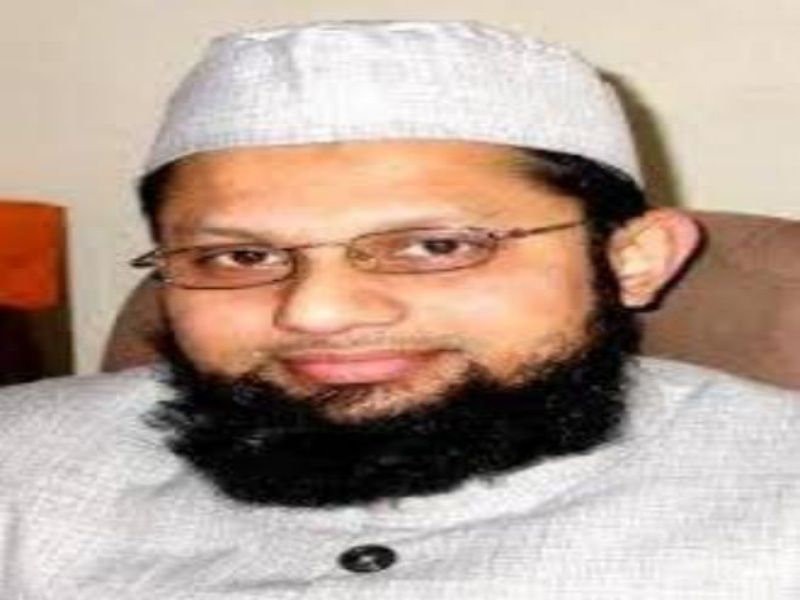TsisyArotava: (133, 85, 703, 469)
